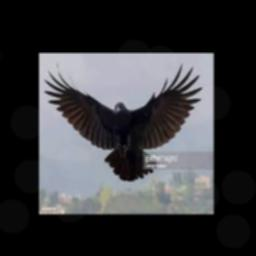Crow: (44, 62, 203, 181)
